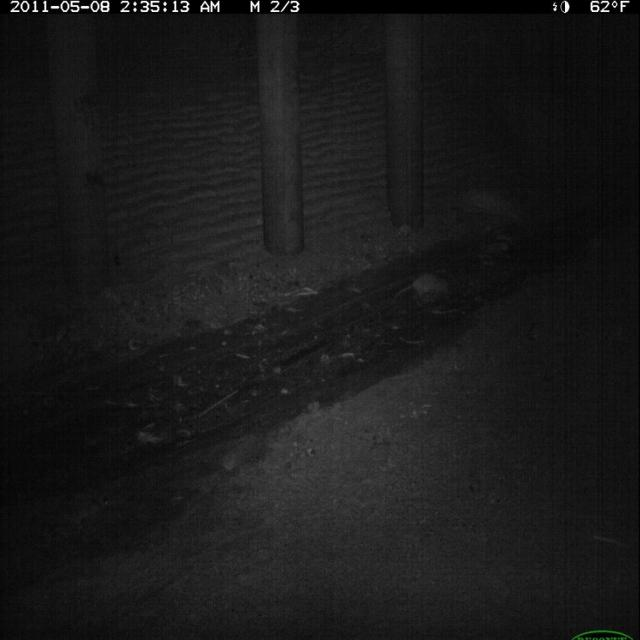opossum: (397, 270, 456, 303)
